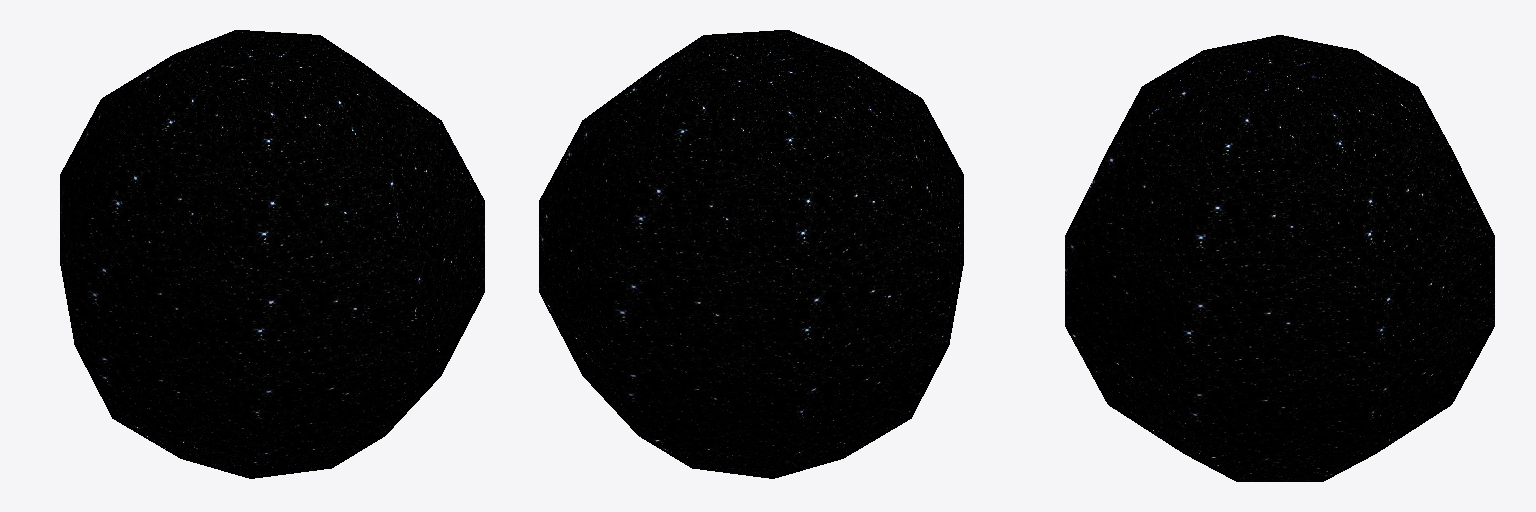
3 views of the same model, side by side, from view 1: azimuth 30°, elevation 25°; view 2: azimuth 150°, elevation 25°; view 3: azimuth 270°, elevation 25° (orthographic).
Visible parts, largest first — view 1: Sphere; view 2: Sphere; view 3: Sphere.
Boxes of the visible parts, box(x1,y1,x2,y2) form: Sphere: box(60, 30, 484, 478); Sphere: box(539, 30, 963, 478); Sphere: box(1065, 35, 1494, 481).
Bounding box in the file's own units: 124 × 121 × 127.
Materials: 1 (1 with a texture image).